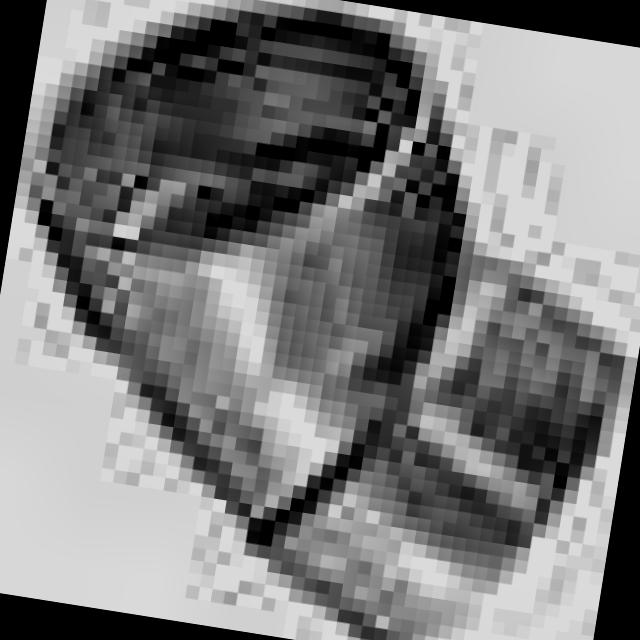ELBOW45: (35, 0, 638, 640)
